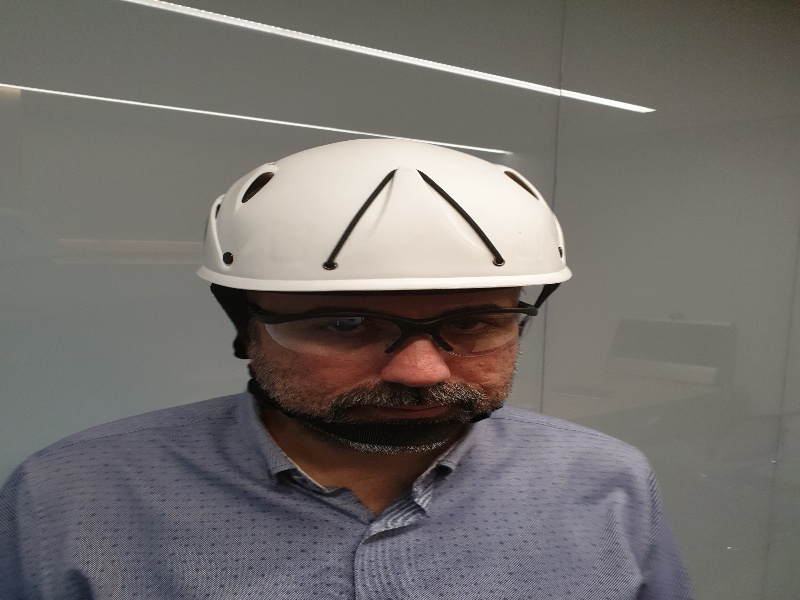Baret: (199, 139, 573, 290)
Gozluk: (238, 304, 524, 358)
